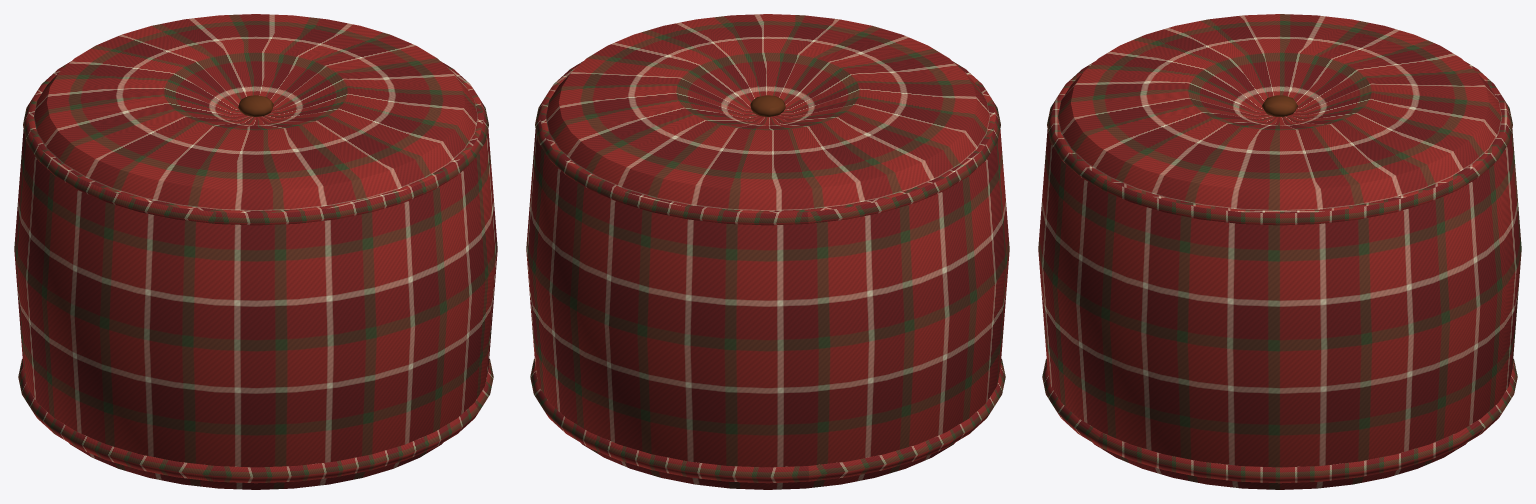
The model's file is pouf.glb.
3 views of the same model, side by side, from view 1: azimuth 30°, elevation 25°; view 2: azimuth 150°, elevation 25°; view 3: azimuth 270°, elevation 25° (orthographic).
Parts seen in each view (by area): view 1: model; view 2: model; view 3: model.
Boxes of the visible parts, x1,y1,x2,y2 form: model: (14, 14, 497, 489); model: (526, 14, 1009, 489); model: (1038, 14, 1521, 489).
Bounding box in the file's own units: 0.5824 × 0.41 × 0.5824.
Materials: 2 (2 with a texture image).
